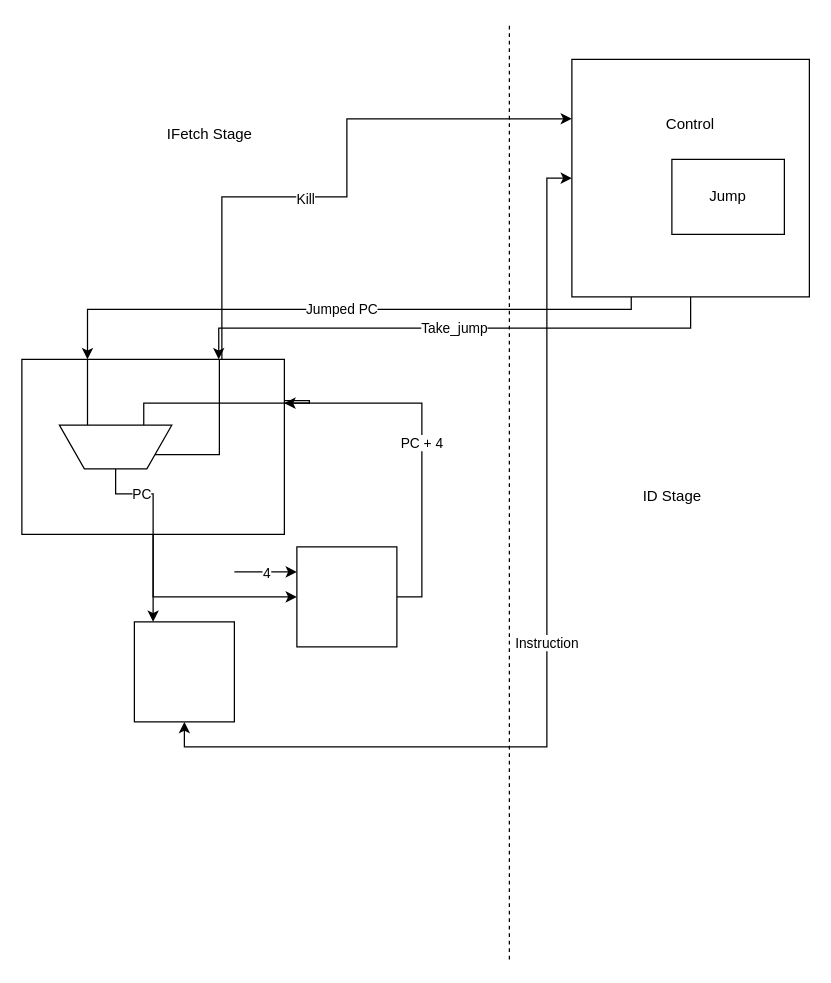
The diagram is 831 pixels wide and 983 high, and some of its shapes have lost their labels. The shapes that lost their labels are listed below. From the top down, each one's box as (x1, y1, x2, y2) in pixels, then its label:
(296, 546, 397, 647): Adder
(133, 621, 234, 722): SRAM
